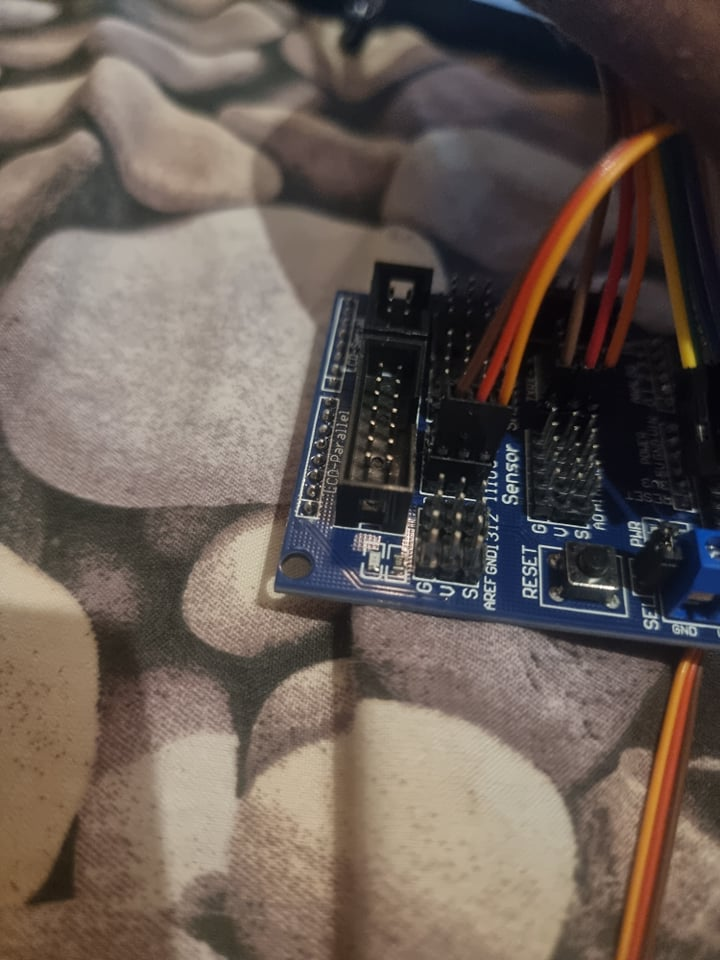5V EXPANSION: (271, 259, 720, 645)
